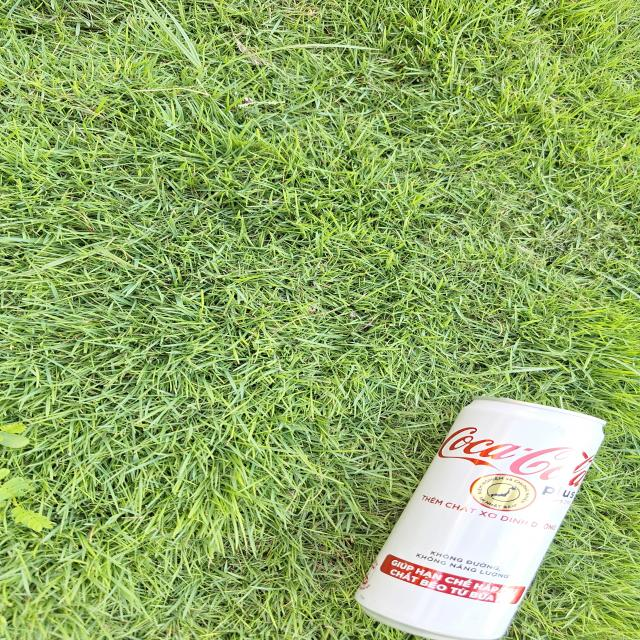Coca Cola Plus: (334, 405, 622, 640)
